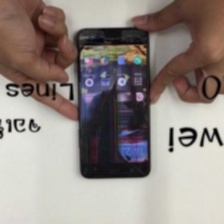phone: (72, 23, 154, 186)
